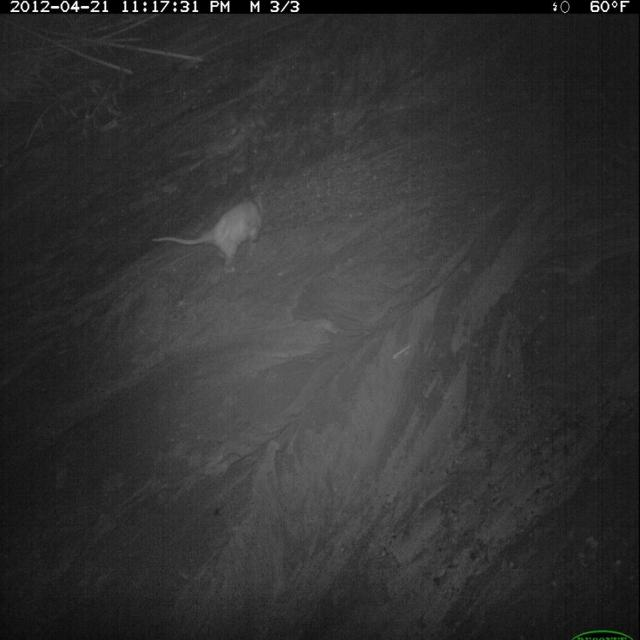opossum: (149, 194, 267, 277)
